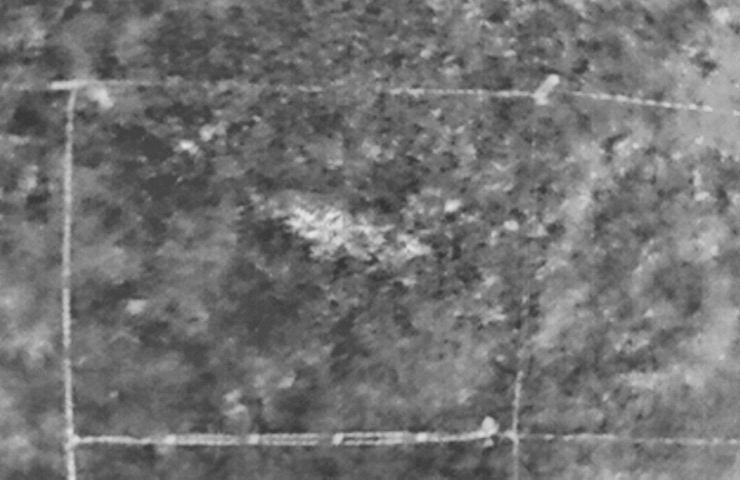landmines: (292, 206, 345, 248)
